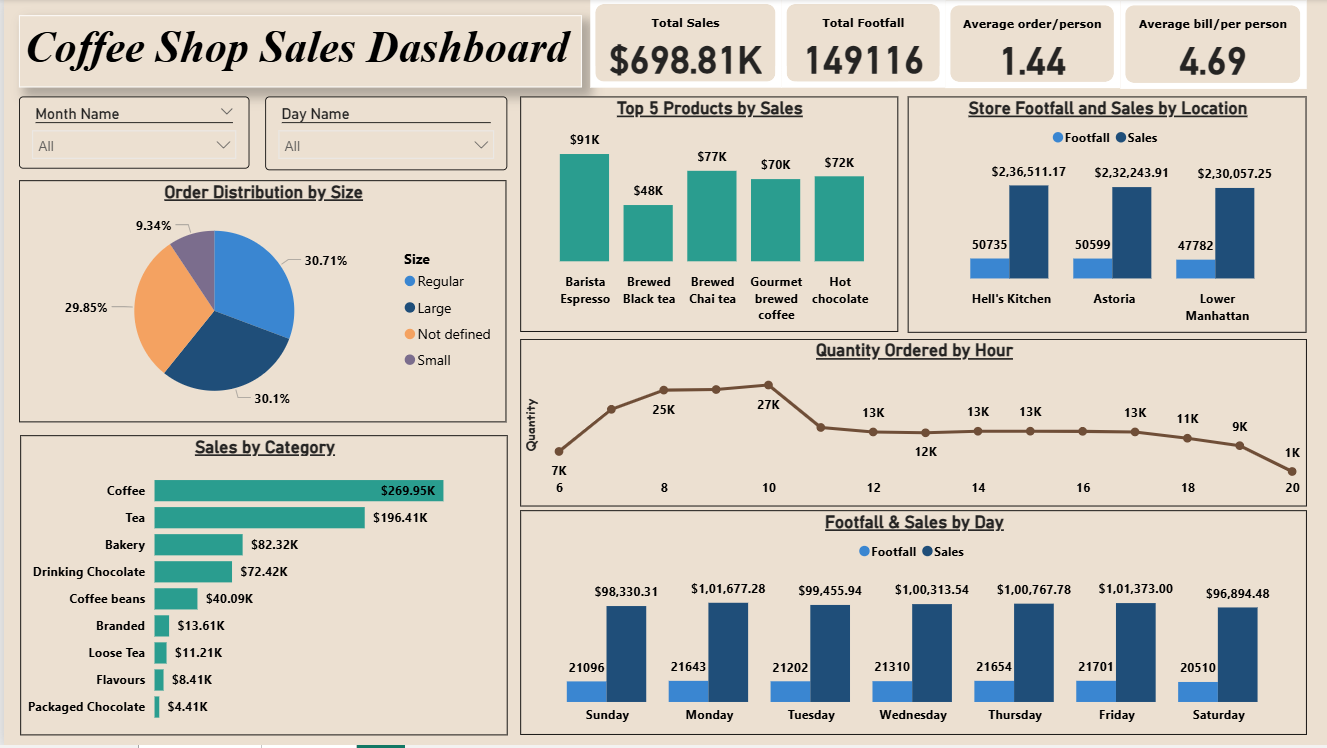

The dashboard page shown, as its layout file describes it:
{"tool":"powerbi","page":{"name":"Dashboard","canvas":[1280,720],"ordinal":0},"visuals":[{"type":"textbox","box":[14.5,15.7,542.9,70],"z":0},{"type":"slicer","fields":{"Values":["Transactions.Month Name"]},"box":[14.7,94.2,222.6,69.7],"z":1000},{"type":"slicer","fields":{"Values":["Transactions.Day Name"]},"box":[251.9,94.2,233.6,70.9],"z":2000},{"type":"cardVisual","fields":{"Data":["Transactions.Transaction"]},"box":[565.8,0,184.6,85.7],"z":3000},{"type":"cardVisual","fields":{"Data":["Transactions.Footfall"]},"box":[750.4,0,158,85.7],"z":4000},{"type":"cardVisual","fields":{"Data":["Transactions.Average bill"]},"box":[1077.4,1.2,179.8,85.7],"z":5000},{"type":"cardVisual","fields":{"Data":["Transactions.Average order"]},"box":[908.4,1.2,168.9,84.5],"z":6000},{"type":"clusteredColumnChart","title":"Store Footfall and Sales by Location","fields":{"Category":["Transactions.store_location"],"Y":["CountNonNull(Transactions.transaction_id)","Sum(Transactions.Total)"]},"box":[872.3,94.1,384.9,228],"z":7000},{"type":"clusteredColumnChart","title":"Footfall & Sales by Day","fields":{"Category":["Transactions.Day Name"],"Y":["CountNonNull(Transactions.transaction_id)","Sum(Transactions.Total)"]},"box":[497.7,494,759.4,216.4],"z":8000},{"type":"columnChart","title":"Top 5 Products by Sales","fields":{"Category":["Transactions.product_type"],"Y":["Sum(Transactions.Total)"]},"box":[497.7,94.2,364.4,227.4],"z":9000},{"type":"pieChart","title":"Order Distribution by Size","fields":{"Category":["Transactions.Size"],"Y":["CountNonNull(Transactions.Total)"]},"box":[14.7,174.9,470.8,233.6],"z":10000},{"type":"barChart","title":"Sales by Category","fields":{"Category":["Transactions.product_category"],"Y":["Sum(Transactions.Total)"]},"box":[15.9,420.7,470.8,289.8],"z":11000},{"type":"lineChart","title":"Quantity Ordered by Hour","fields":{"Y":["Sum(Transactions.transaction_qty)"],"Category":["Transactions.Hour"]},"box":[497.7,327.7,759.4,161.4],"z":12000}]}

Visuals, with their boxes in screenshot pixels (x1, y1, x2, y2), scaled from the page's 1280x720 canvas onto the 1327x748 screenshot:
textbox: [x1=15, y1=16, x2=578, y2=89]
slicer - Transactions.Month Name: [x1=15, y1=98, x2=246, y2=170]
slicer - Transactions.Day Name: [x1=261, y1=98, x2=503, y2=172]
cardVisual - Transactions.Transaction: [x1=587, y1=0, x2=778, y2=89]
cardVisual - Transactions.Footfall: [x1=778, y1=0, x2=942, y2=89]
cardVisual - Transactions.Average bill: [x1=1117, y1=1, x2=1303, y2=90]
cardVisual - Transactions.Average order: [x1=942, y1=1, x2=1117, y2=89]
"Store Footfall and Sales by Location" clusteredColumnChart: [x1=904, y1=98, x2=1303, y2=335]
"Footfall & Sales by Day" clusteredColumnChart: [x1=516, y1=513, x2=1303, y2=738]
"Top 5 Products by Sales" columnChart: [x1=516, y1=98, x2=894, y2=334]
"Order Distribution by Size" pieChart: [x1=15, y1=182, x2=503, y2=424]
"Sales by Category" barChart: [x1=16, y1=437, x2=505, y2=738]
"Quantity Ordered by Hour" lineChart: [x1=516, y1=340, x2=1303, y2=508]
